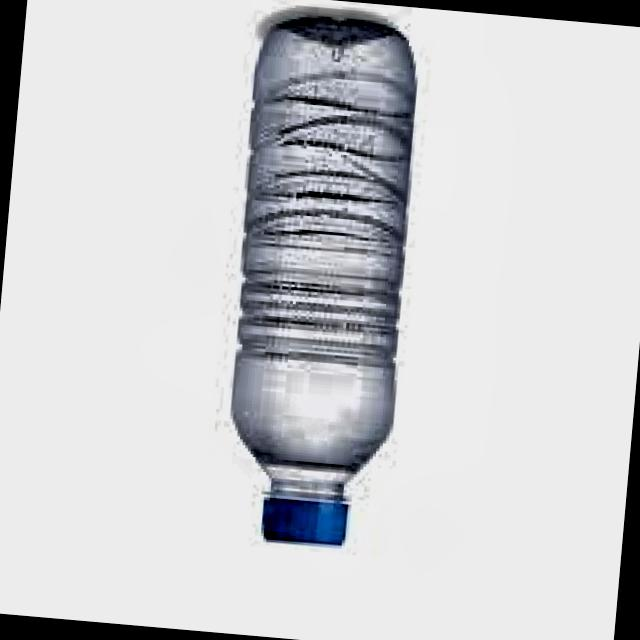plastic bottle: (232, 18, 415, 547)
